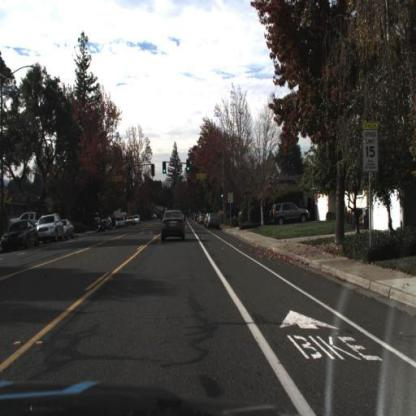car: (2, 219, 42, 256), (270, 201, 311, 226), (160, 209, 187, 245), (37, 214, 65, 244), (12, 210, 40, 233), (58, 218, 77, 241), (205, 212, 223, 231), (99, 217, 113, 234), (116, 217, 127, 231), (126, 217, 136, 227), (134, 216, 141, 227)
trafficLight-Green: (162, 161, 169, 175), (220, 188, 226, 204), (163, 160, 168, 176), (186, 158, 191, 172), (186, 159, 191, 172), (221, 188, 226, 200)
